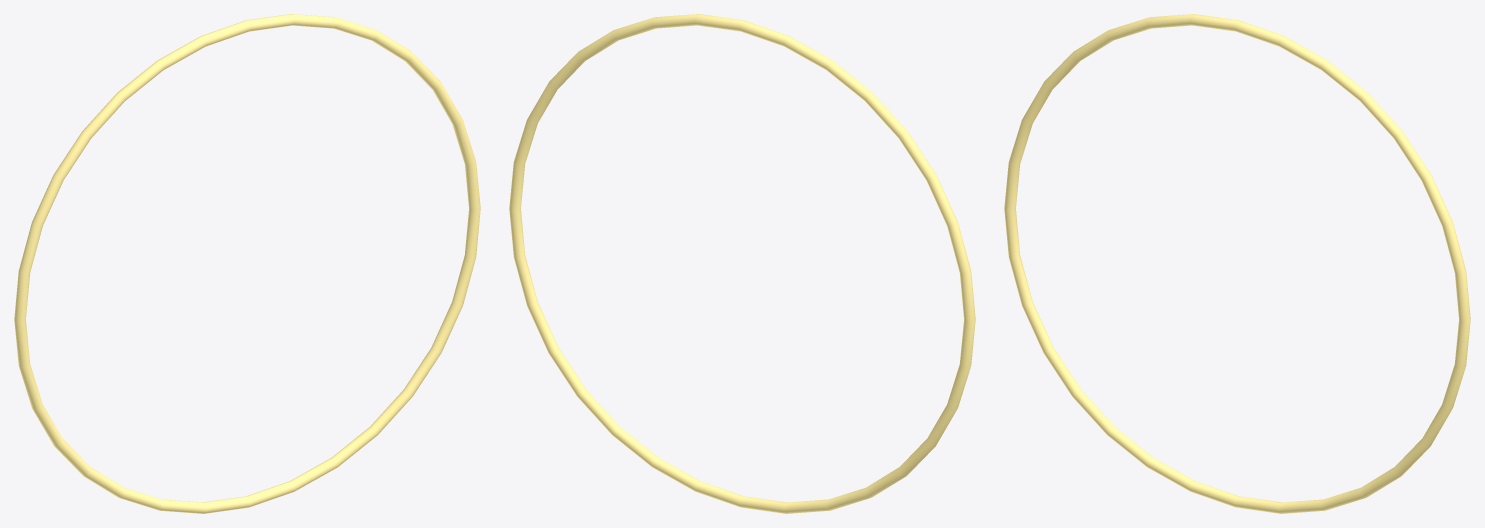
The model's file is crown-halo.glb.
3 renders of one model, left to right at view 1: azimuth 30°, elevation 25°; view 2: azimuth 150°, elevation 25°; view 3: azimuth 330°, elevation 25°, orthographic.
Parts seen in each view (by area): view 1: Crown Halo; view 2: Crown Halo; view 3: Crown Halo.
Part boxes in pixels (x1=…): Crown Halo: x1=14, y1=14, x2=480, y2=513; Crown Halo: x1=509, y1=14, x2=975, y2=513; Crown Halo: x1=1004, y1=14, x2=1470, y2=513.
Bounding box in the file's own units: 84.59 × 84.59 × 1.84.
